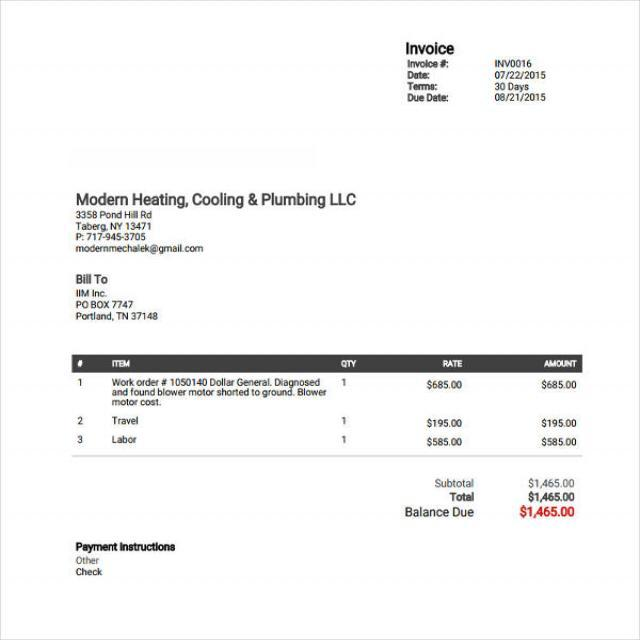customer_address: (74, 300, 160, 326)
customer_name: (72, 285, 107, 299)
due_date: (490, 89, 553, 106)
invoice_date: (490, 68, 552, 81)
invoice_number: (491, 54, 534, 69)
invoice_subtotal: (524, 473, 577, 488)
invoice_total: (524, 490, 577, 503)
item_description: (103, 374, 327, 449)
item_quantity: (332, 377, 364, 450)
item_total_price: (535, 374, 583, 449)
item_unit_price: (420, 377, 472, 453)
supplier_address: (74, 208, 156, 232)
supplier_name: (72, 188, 368, 210)
